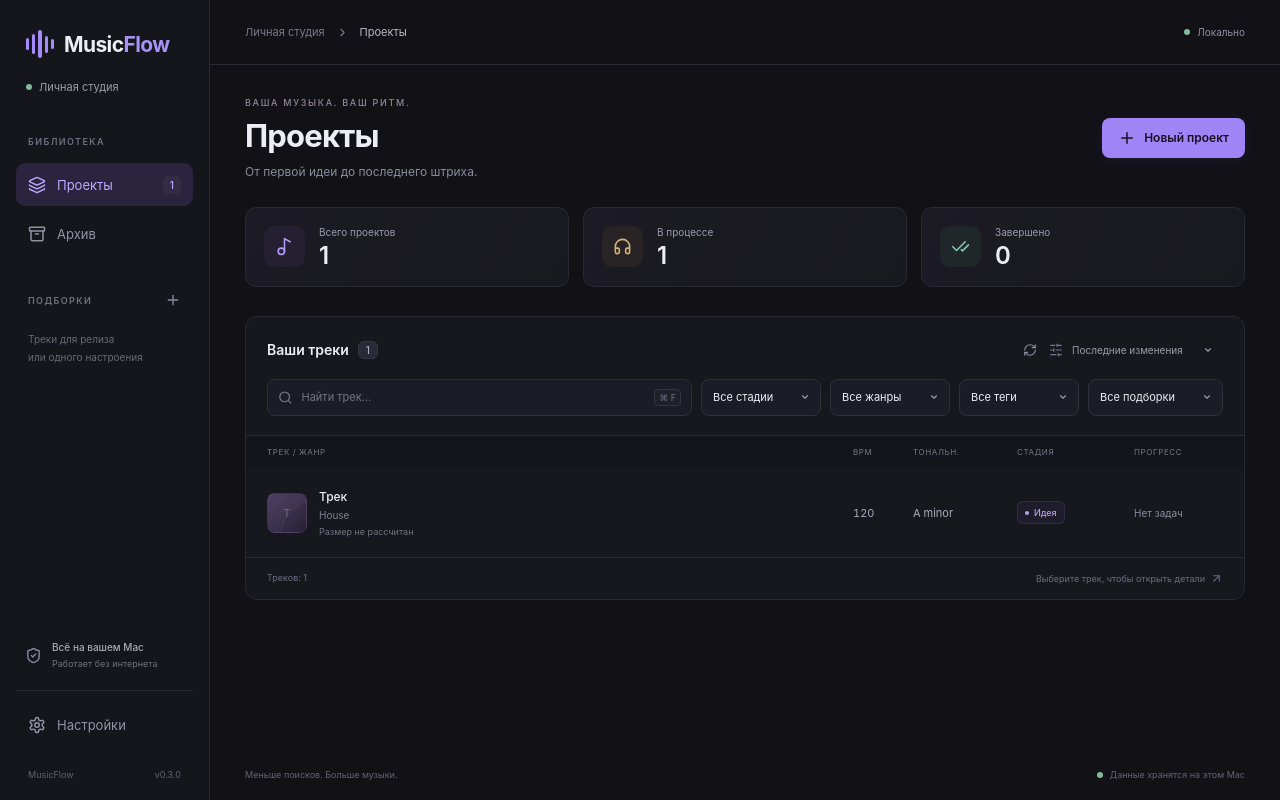
Test: MusicFlow interaction › selects calendar days and navigates months without retaining old events
Click the button with aria-label "Открыть проект: Трек": (287, 513) [246,469,1244,557]
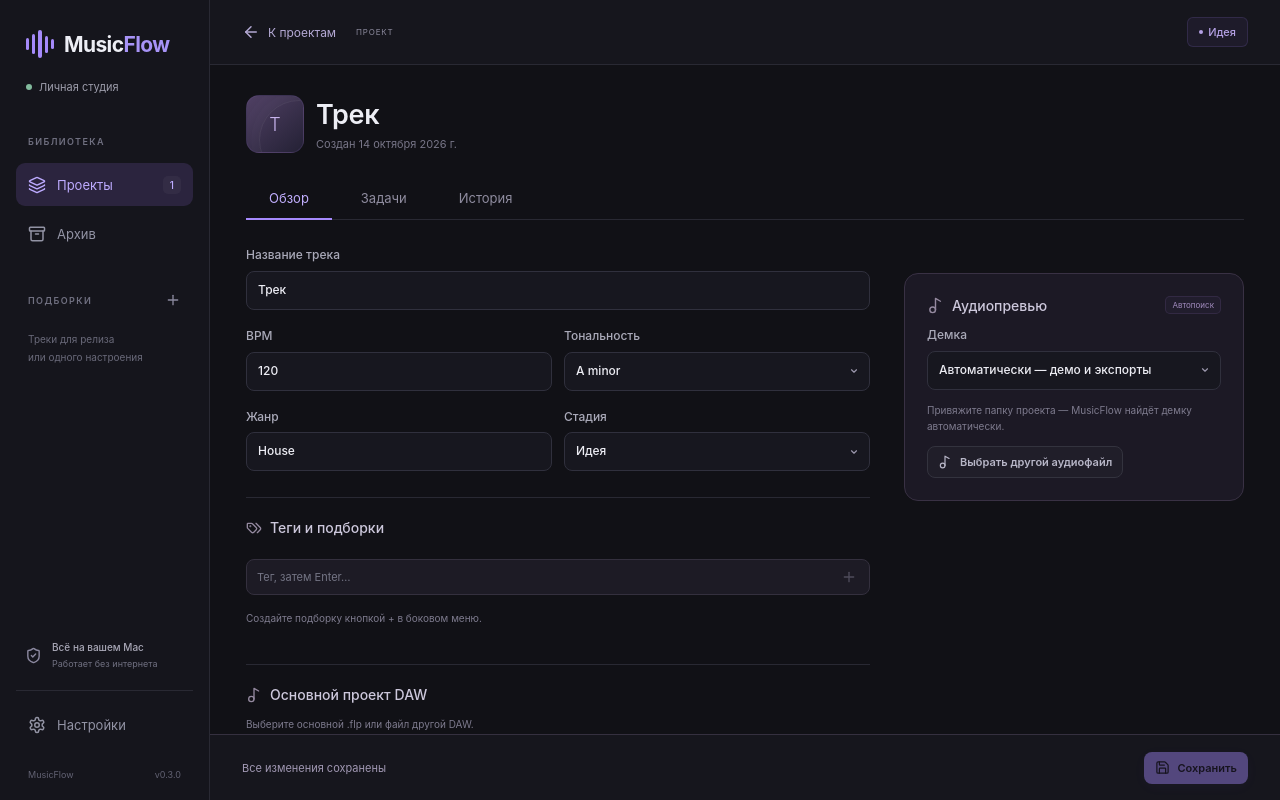
Click the tab "История": (486, 199) [436,178,535,220]
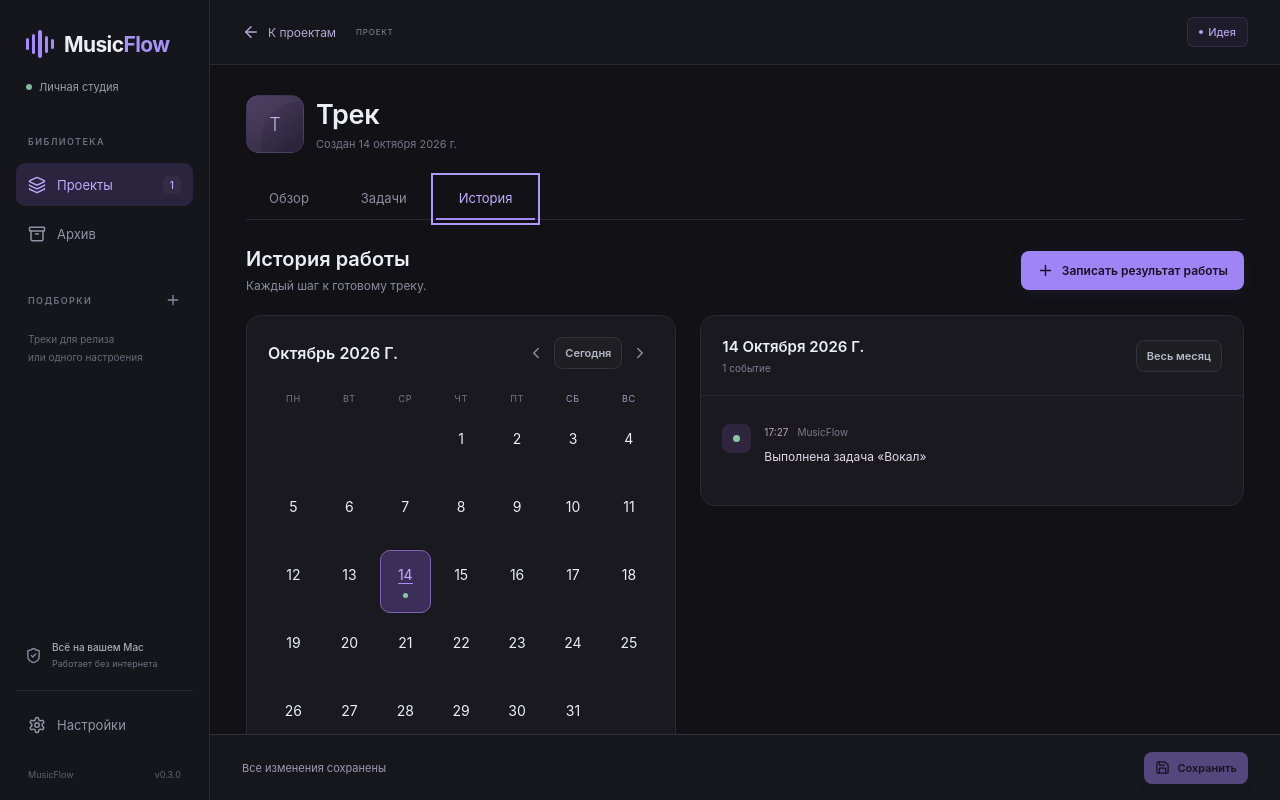
expect the text "Выполнена задача «Вокал»" is shown: met, box [764,449,926,464]
Click the button "Весь месяц": (1179, 356) [1136,340,1222,372]
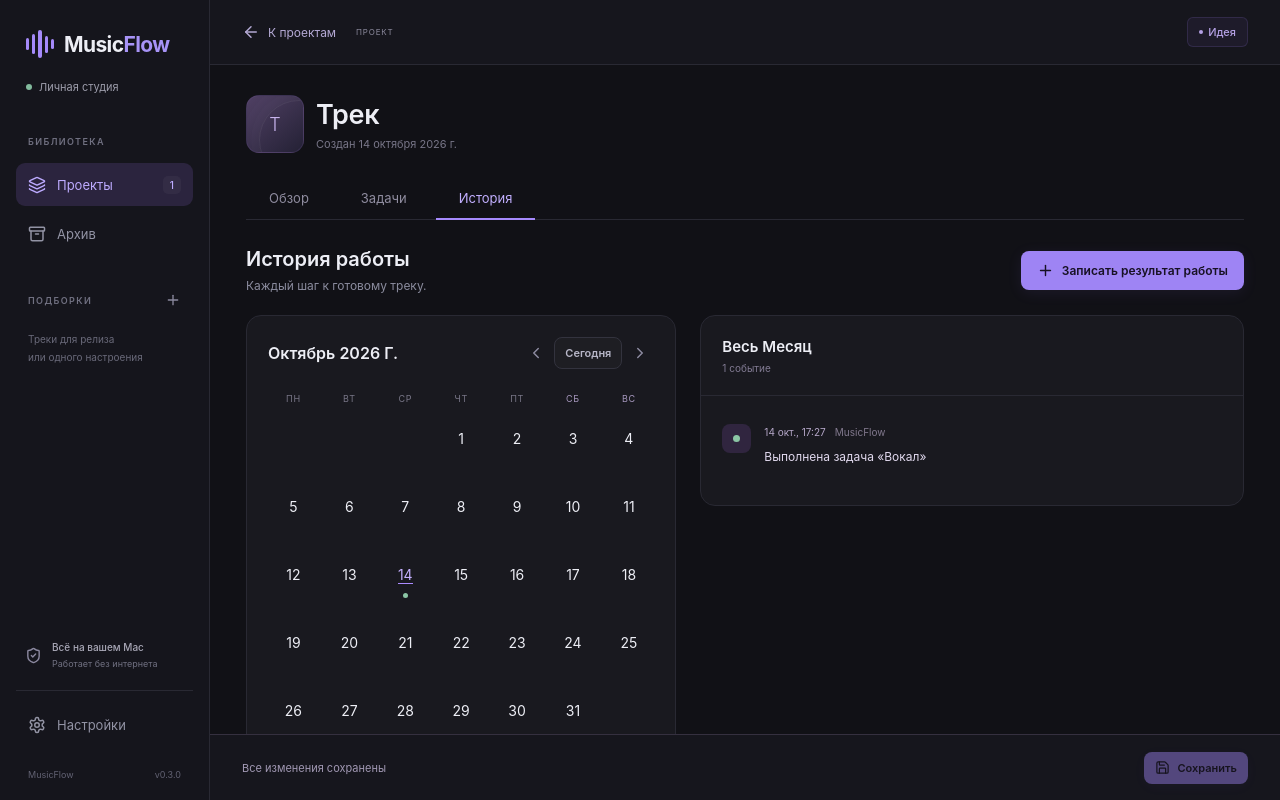
Click the button named "Предыдущий месяц": (536, 353) [522,339,550,367]
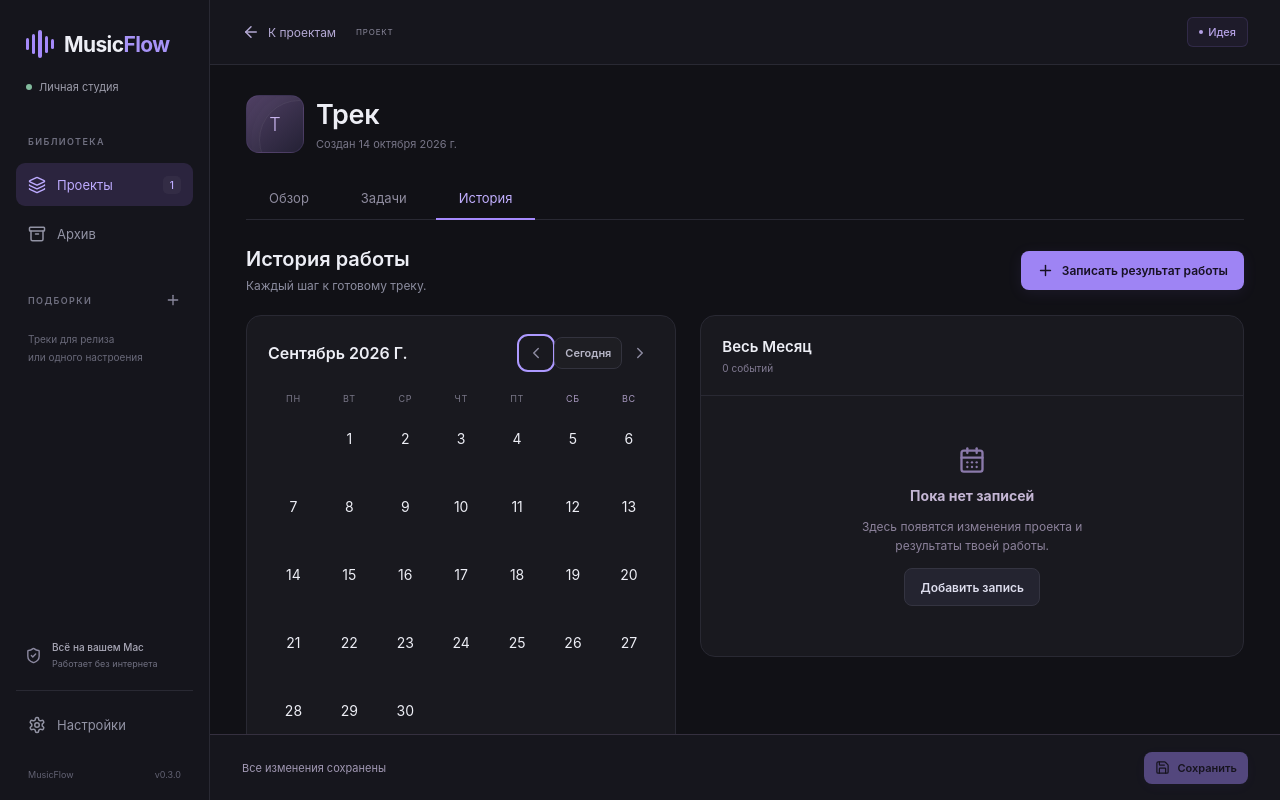
expect the text "Выполнена задача «Вокал»" is gone: met
Click the button "Сегодня": (588, 353) [554,337,622,369]
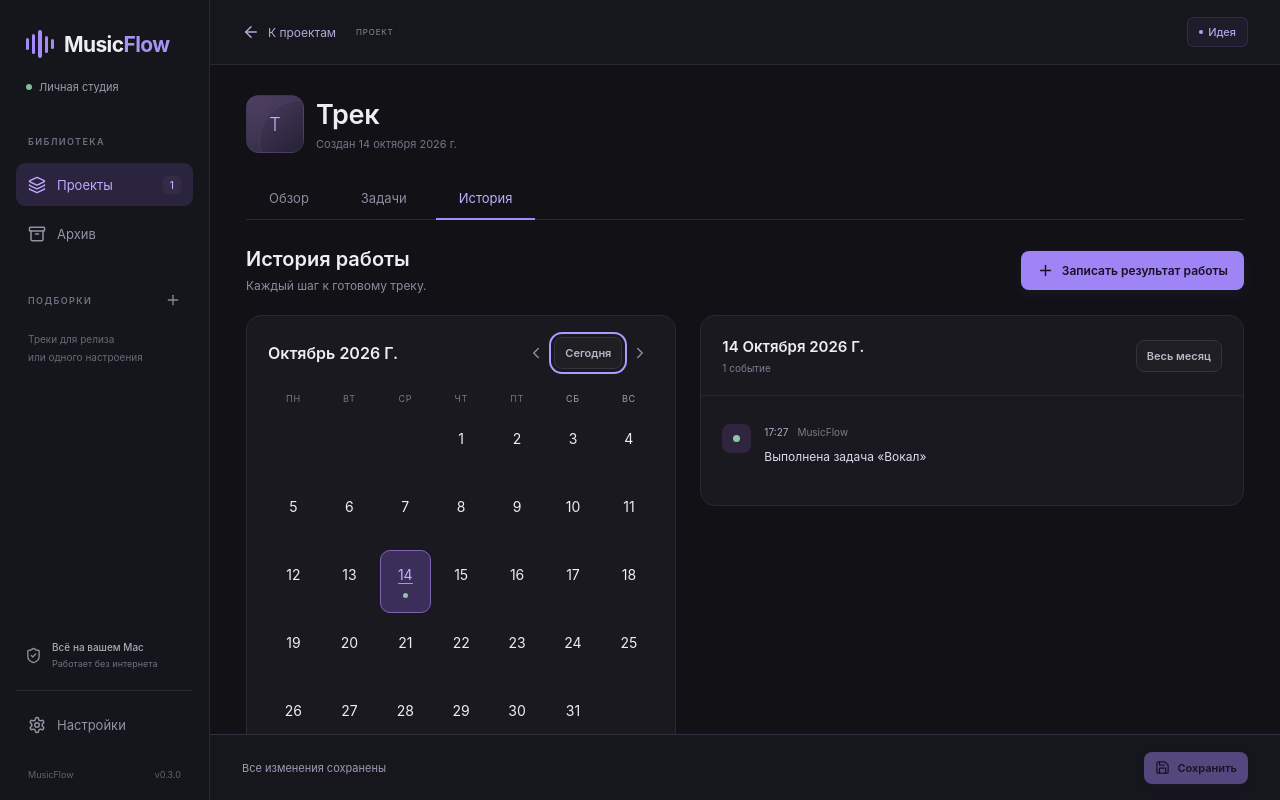
expect the text "Выполнена задача «Вокал»" is shown: met, box [764,449,926,464]
